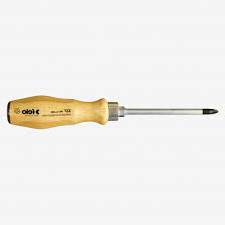Screwdriver: (7, 89, 222, 131)
